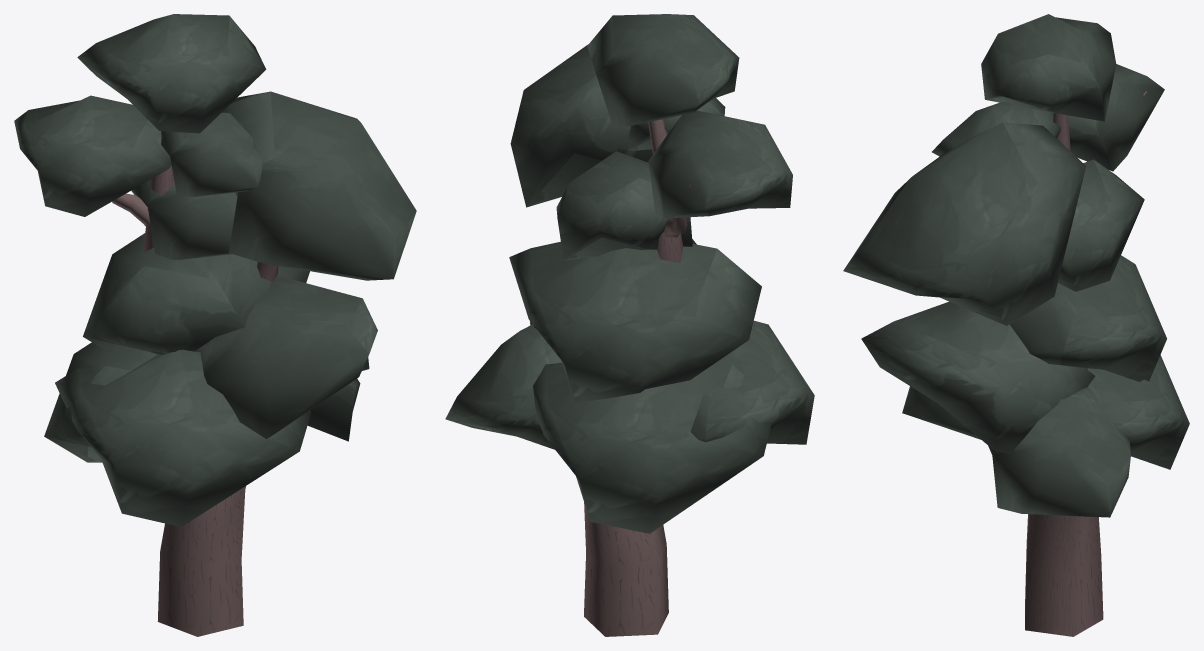
Rendered from RedAlderTree.fbx.
3 renders of one model, left to right at view 1: azimuth 30°, elevation 25°; view 2: azimuth 150°, elevation 25°; view 3: azimuth 270°, elevation 25°, orthographic. The views are drawn at different scales.
Visible parts, largest first — view 1: RedAlderTree; view 2: RedAlderTree; view 3: RedAlderTree.
Boxes of the visible parts, <box> form: RedAlderTree: <box>14,14,416,636</box>; RedAlderTree: <box>445,14,814,636</box>; RedAlderTree: <box>843,14,1189,636</box>.
Bounding box in the file's own units: 7.18 × 13.09 × 6.98.
2 materials, 2 textured.
